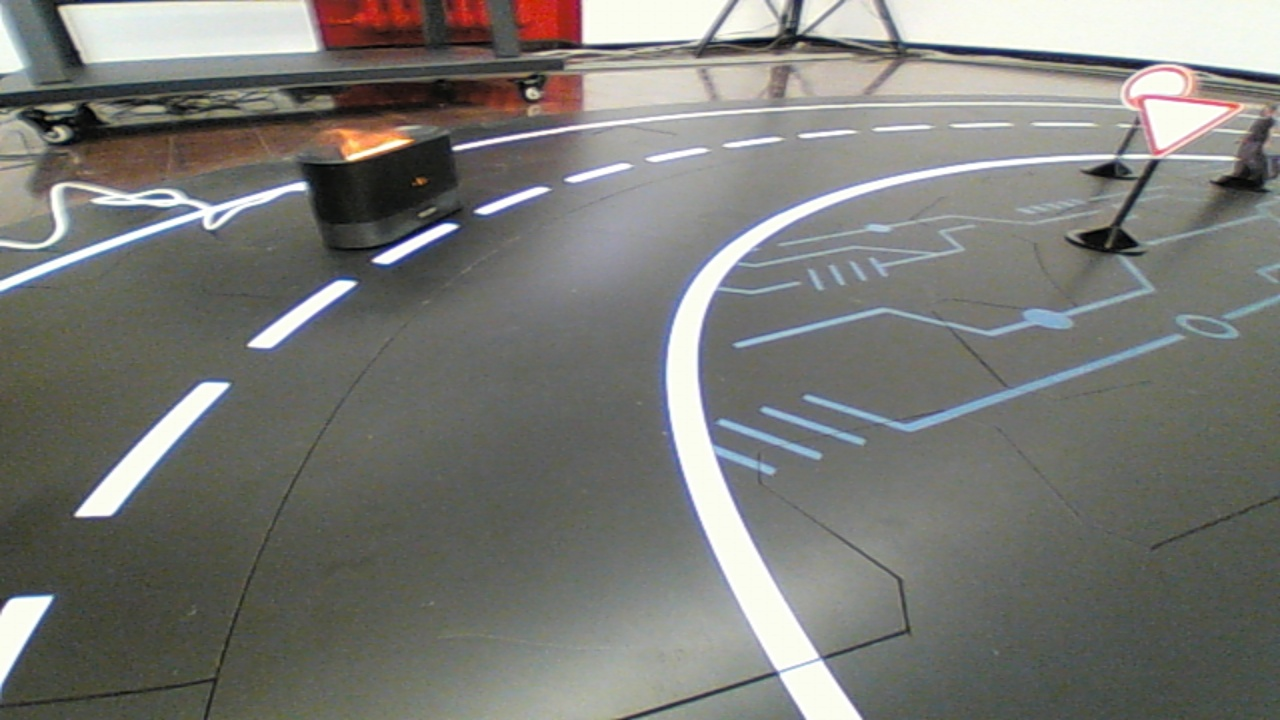Movement prohibition: (276, 119, 476, 260)
